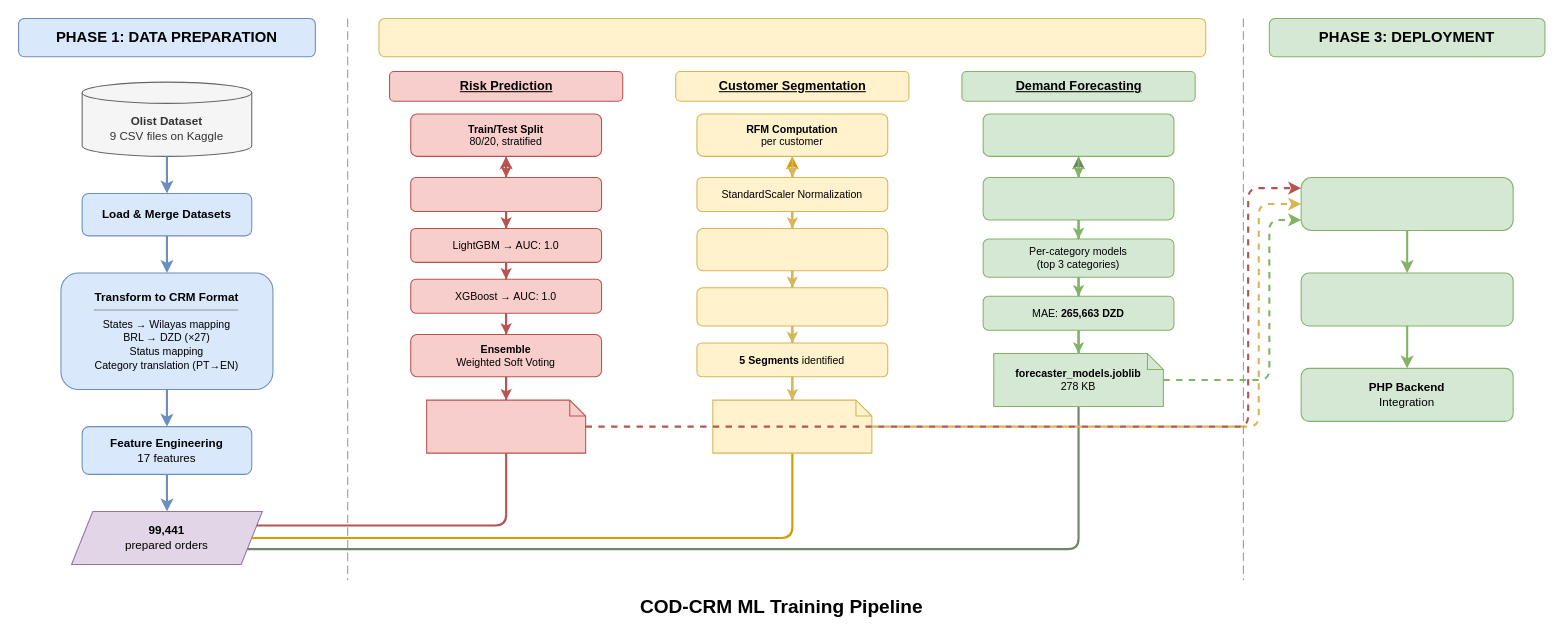
Image size: 1563x641. Some labels were removed from this diagram. Each missing label, with the centre of its shape:
11 REST Endpoints /predict, /segment, /forecast ...: the point at 1406,299
CatBoost → AUC: 1.0: the point at 506,193
Daily Revenue Aggregation 714 days: the point at 1078,134
FastAPI Service port 8001: the point at 1406,203
HDBSCAN Clustering min_cluster_size=50: the point at 792,249
Noise Reassignment (NearestCentroid): the point at 792,306
PHASE 2: MODEL TRAINING: the point at 792,37
Prophet Model multiplicative seasonality: the point at 1078,198
risk_ensemble.joblib 4 MB: the point at 506,426
segmenter.joblib 10 MB: the point at 792,426
